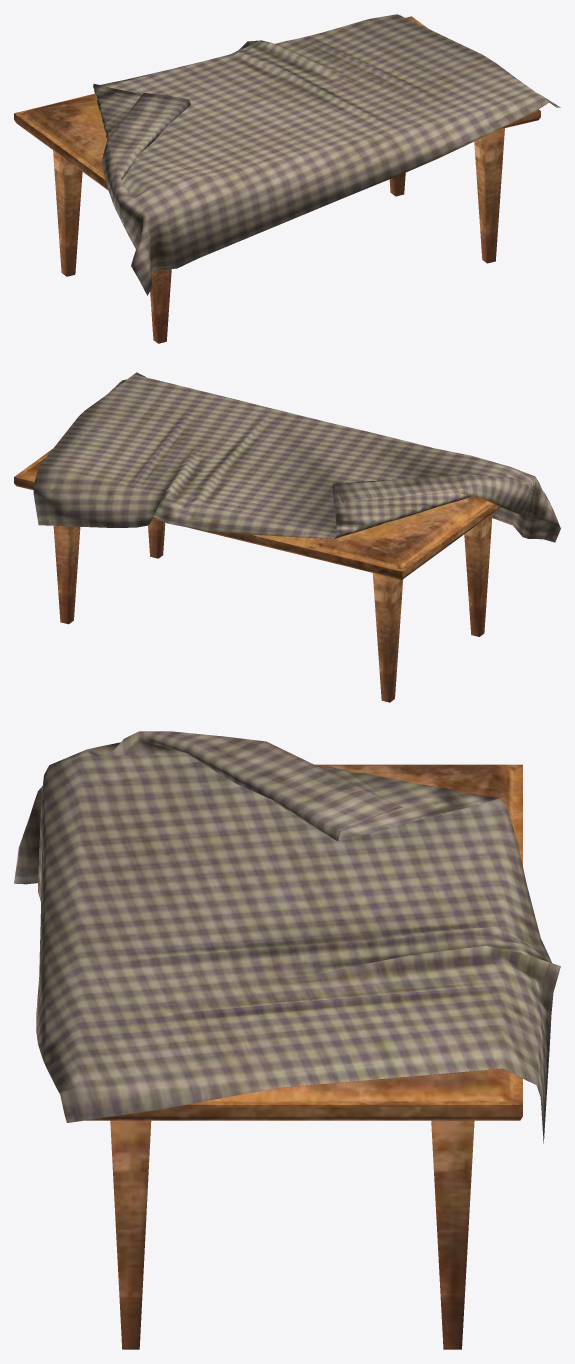
Rendered from ph_dining_table.glb.
The picture shows the model from 3 angles, top to bottom: view 1: azimuth 30°, elevation 25°; view 2: azimuth 150°, elevation 25°; view 3: azimuth 270°, elevation 25°; orthographic projection. The views are drawn at different scales.
Visible parts, largest first — view 1: dining_table_cloth, dining_table; view 2: dining_table_cloth, dining_table; view 3: dining_table_cloth, dining_table.
Boxes of the visible parts, <box> form: dining_table_cloth: <box>93,14,560,295</box>; dining_table: <box>14,16,540,343</box>; dining_table_cloth: <box>33,372,560,542</box>; dining_table: <box>14,449,501,702</box>; dining_table_cloth: <box>14,731,560,1143</box>; dining_table: <box>85,764,522,1349</box>.
Size of the model in its own units: 2.26 by 0.877 by 1.39.
1 material, 1 textured.
